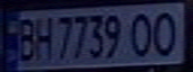3: (87, 11, 106, 61)
7: (69, 11, 90, 61), (54, 12, 72, 61)
9: (103, 10, 127, 61)
B: (12, 15, 39, 62)
H: (30, 14, 57, 62)
O: (148, 7, 187, 58), (127, 9, 160, 58)
